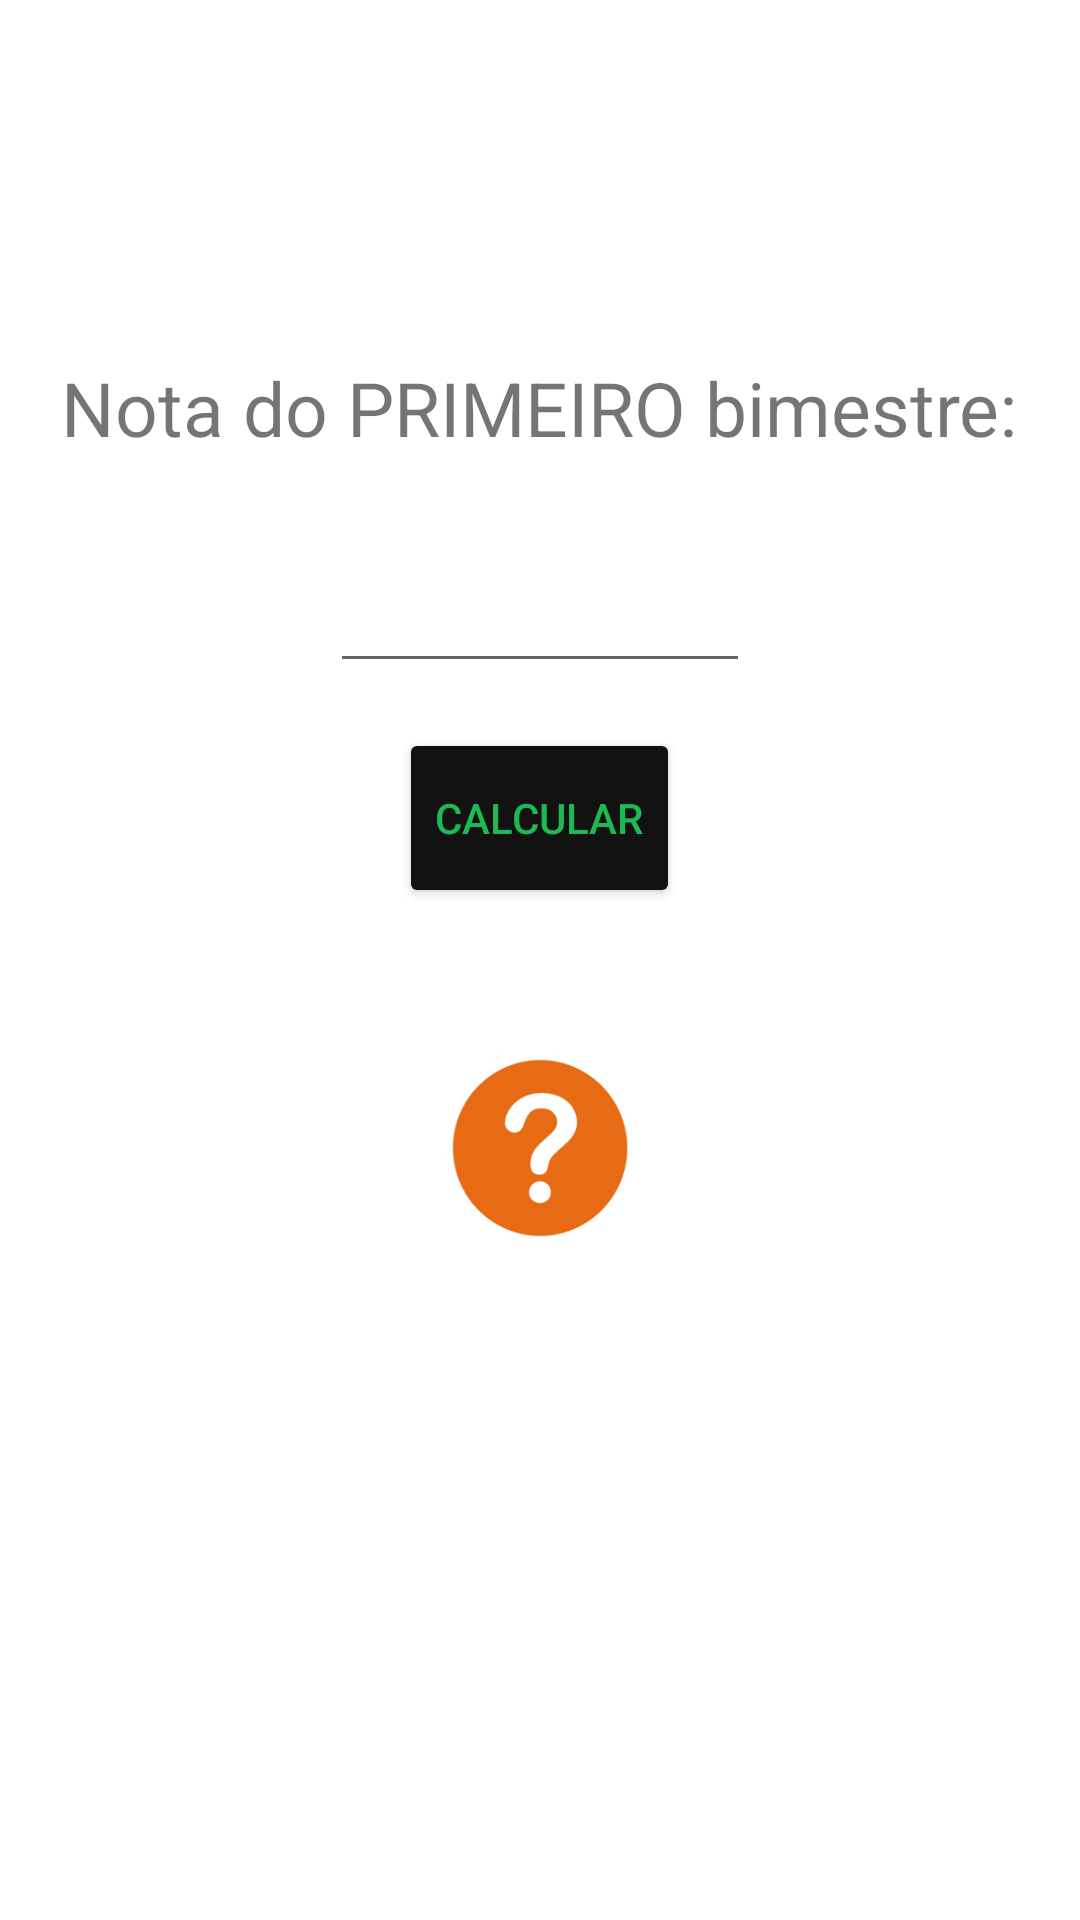

Named icons in this screenshot (1080 × 1920) and their bounding boxes, (x1,y1,x2,y2):
duvida: (452,1059,628,1237)
